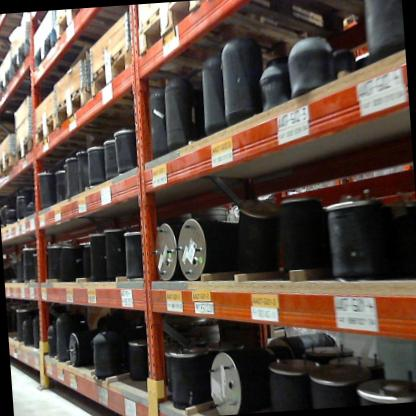pallet: (132, 0, 351, 111), (82, 43, 214, 133), (57, 81, 157, 145), (32, 26, 129, 75), (11, 34, 71, 97), (54, 6, 144, 48), (0, 13, 55, 65), (0, 67, 61, 107), (0, 82, 36, 124), (31, 115, 60, 156), (11, 130, 36, 169), (0, 152, 15, 187)
